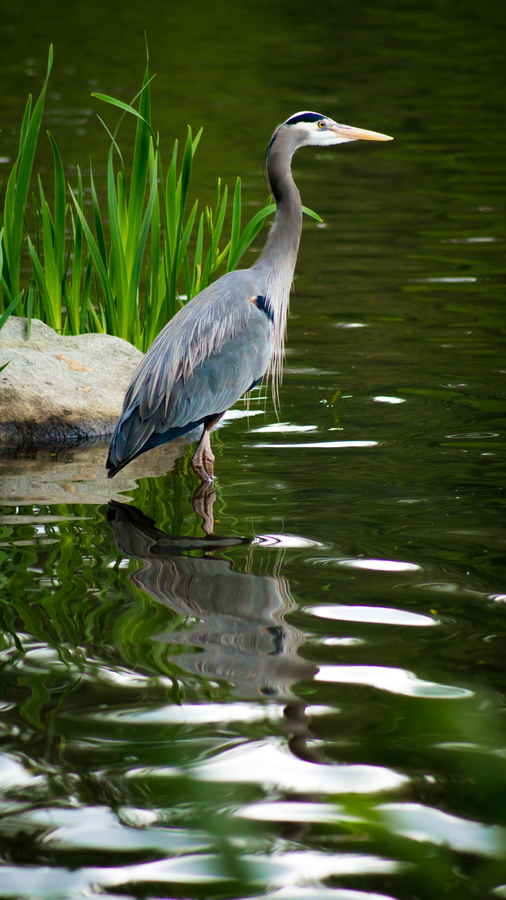heron: (105, 105, 398, 543)
